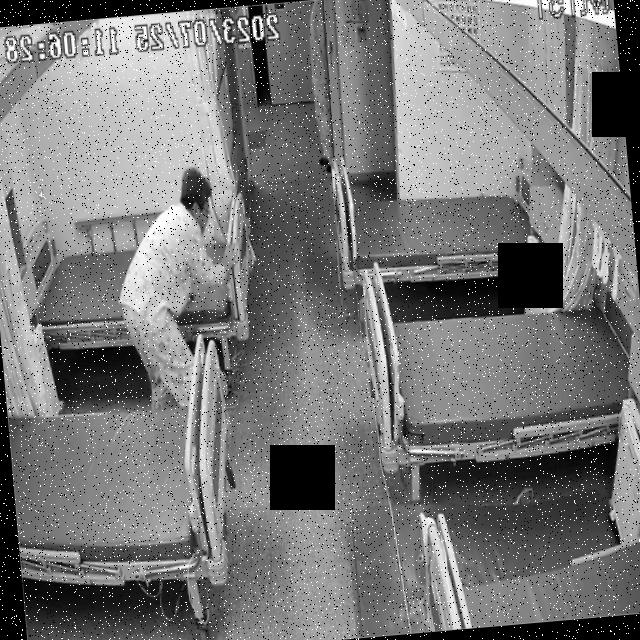bed: (1, 333, 242, 596), (362, 291, 638, 466), (16, 219, 259, 358), (334, 174, 532, 288)
danger: (112, 168, 251, 420)
patient: (115, 170, 252, 416)
